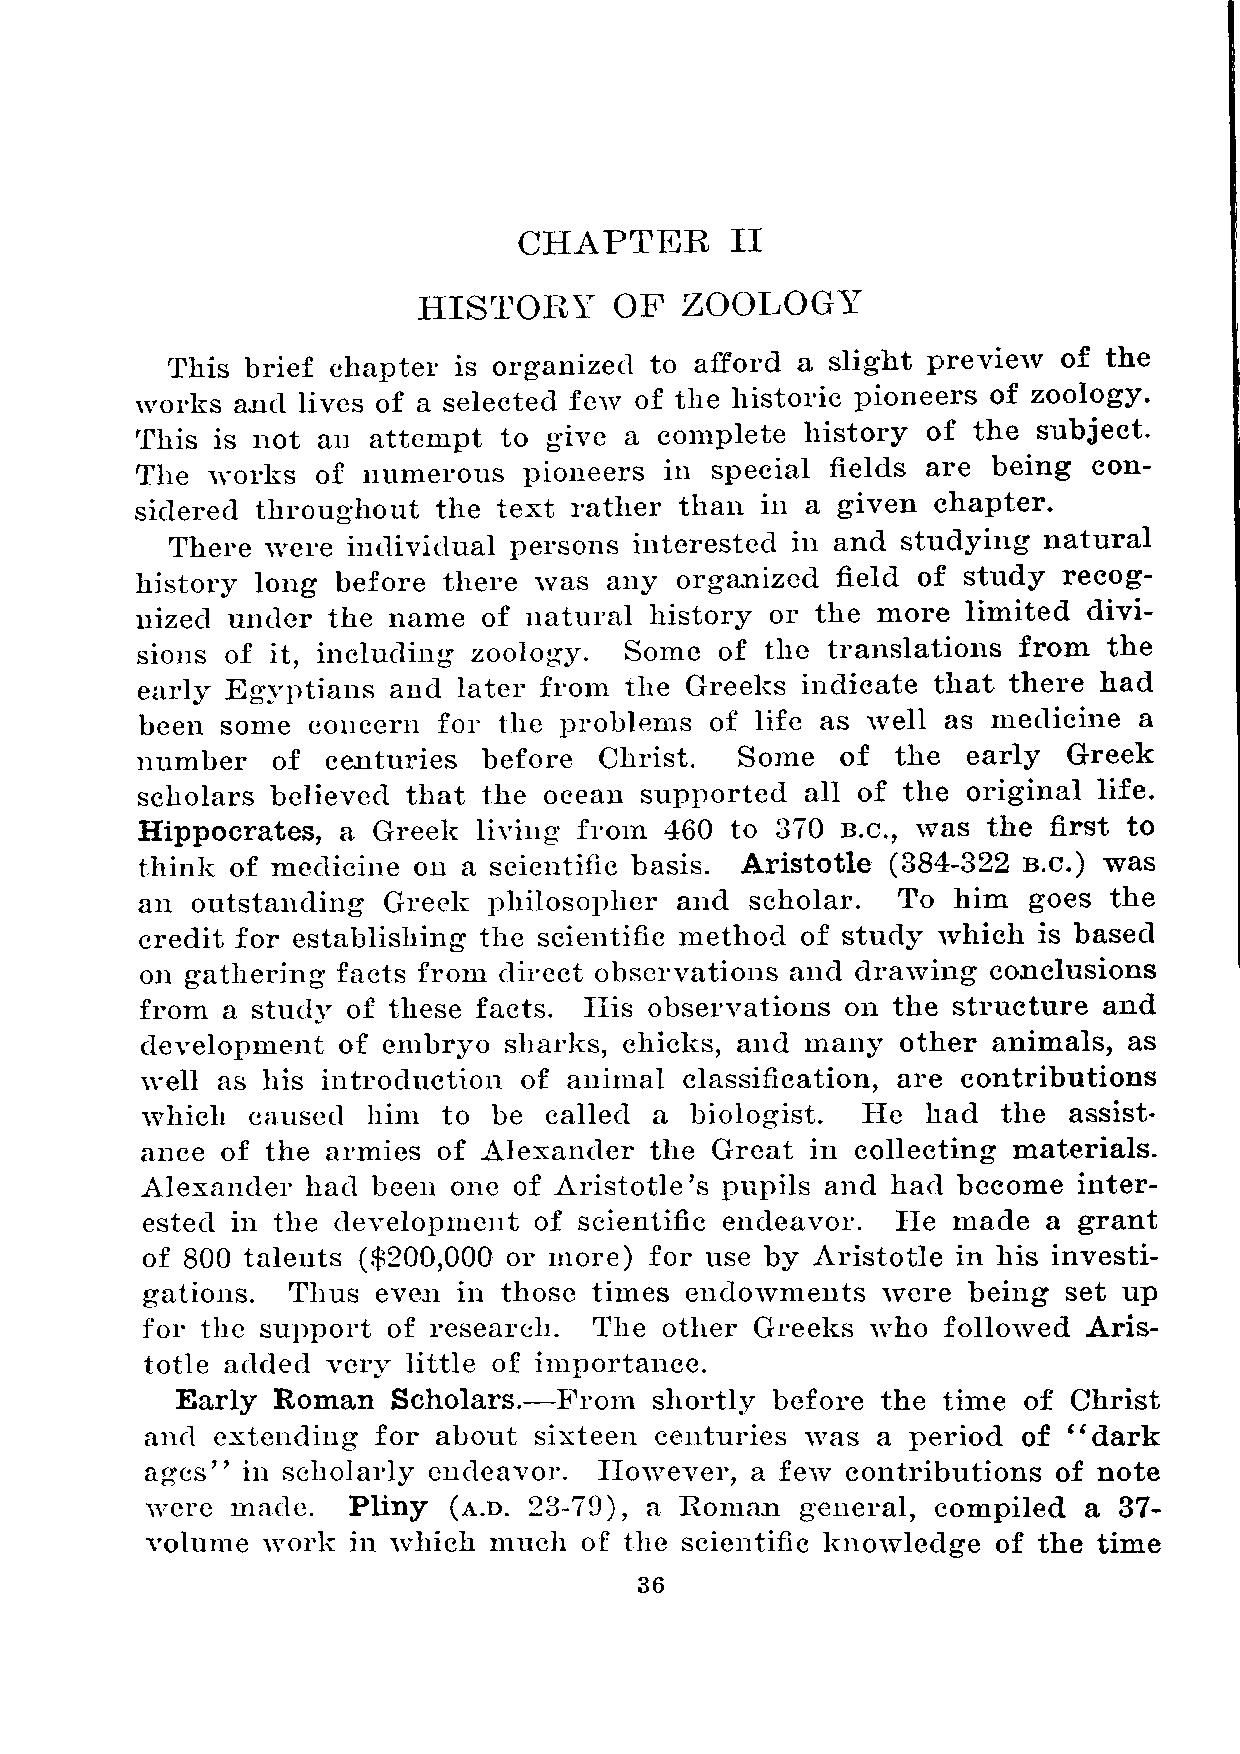chapter: (413, 225, 862, 323)
content: (132, 344, 1159, 1561)
content_pagenumber: (633, 1573, 667, 1598)
